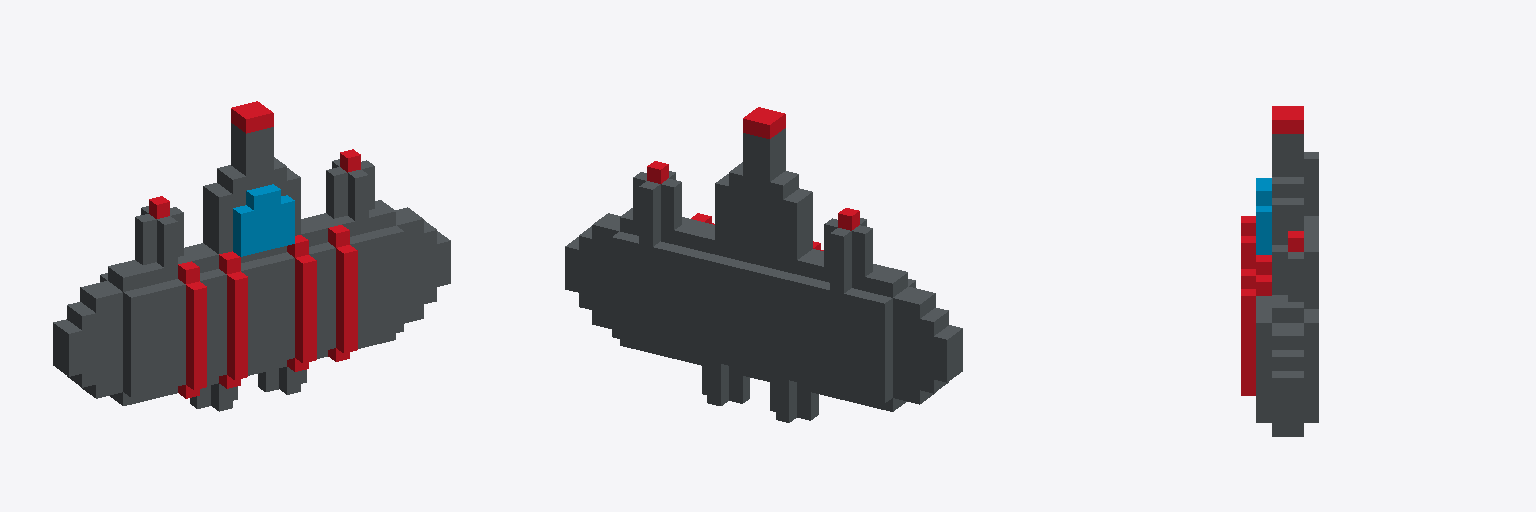
The model's file is PlayerShip.obj.
The picture shows the model from 3 angles: view 1: azimuth 30°, elevation 25°; view 2: azimuth 150°, elevation 25°; view 3: azimuth 270°, elevation 25°; orthographic projection.
Parts seen in each view (by area): view 1: obj_0; view 2: obj_0; view 3: obj_0.
Part boxes in pixels (x1,y1,x2,y2): obj_0: (53,101,450,411); obj_0: (565,107,962,422); obj_0: (1241,106,1318,436).
Bounding box in the file's own units: 28 × 20 × 5.